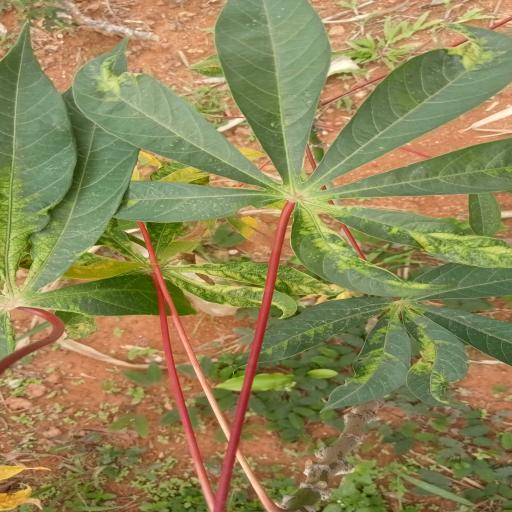Cassava_Mosaic: (71, 0, 512, 291), (213, 252, 512, 418)
